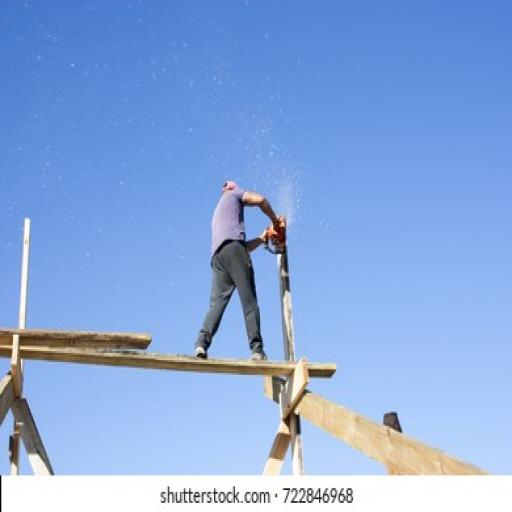no_helm: (211, 162, 253, 230)
